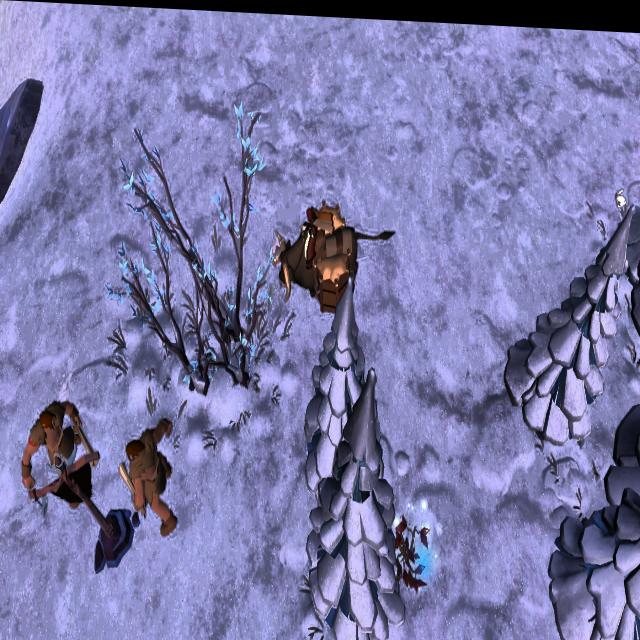enemy_factionKeeper: (23, 381, 96, 502), (128, 406, 182, 540)
